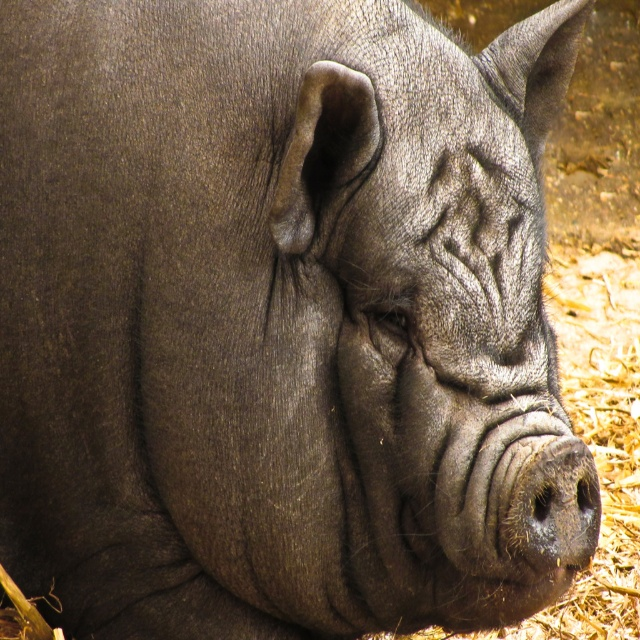Pig: (0, 0, 602, 639)
